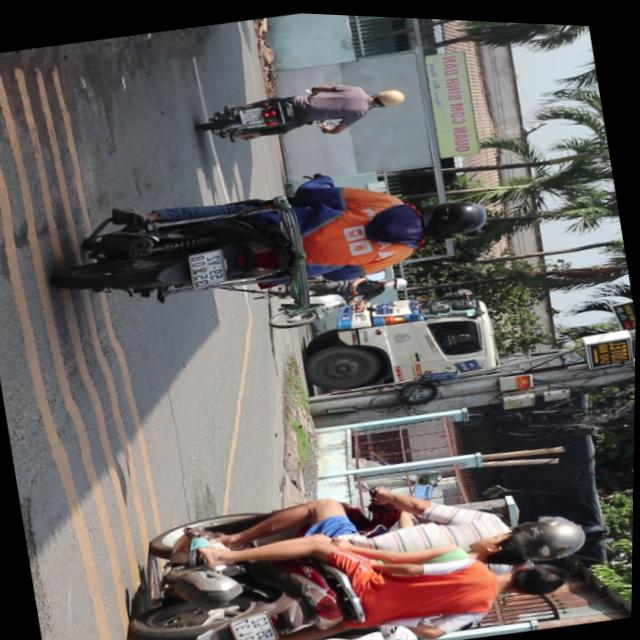helmet: (518, 504, 594, 563), (414, 188, 493, 242), (370, 80, 409, 108)
licenseplate: (109, 437, 601, 640), (52, 136, 501, 341), (197, 62, 413, 155)
motorcyclist: (459, 520, 541, 571), (498, 551, 569, 600)
nohelmet: (230, 604, 281, 640), (188, 245, 230, 287), (241, 102, 265, 123)
